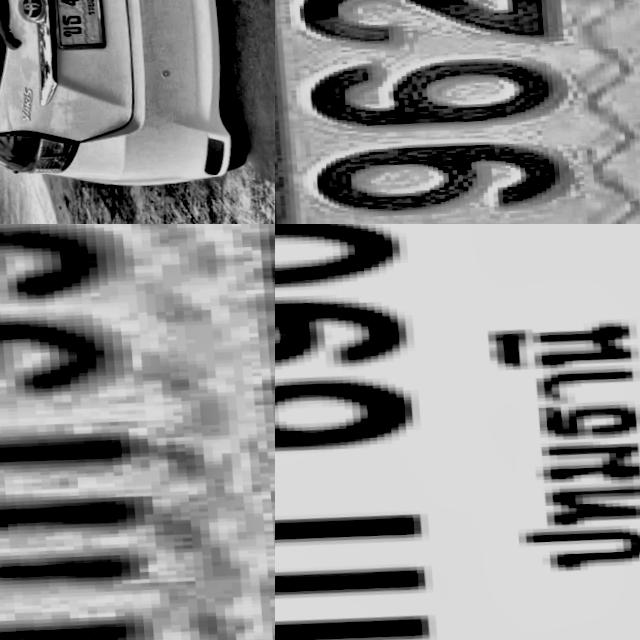license-plate: (275, 224, 640, 640), (0, 224, 275, 640), (275, 0, 640, 224), (47, 0, 106, 48)
